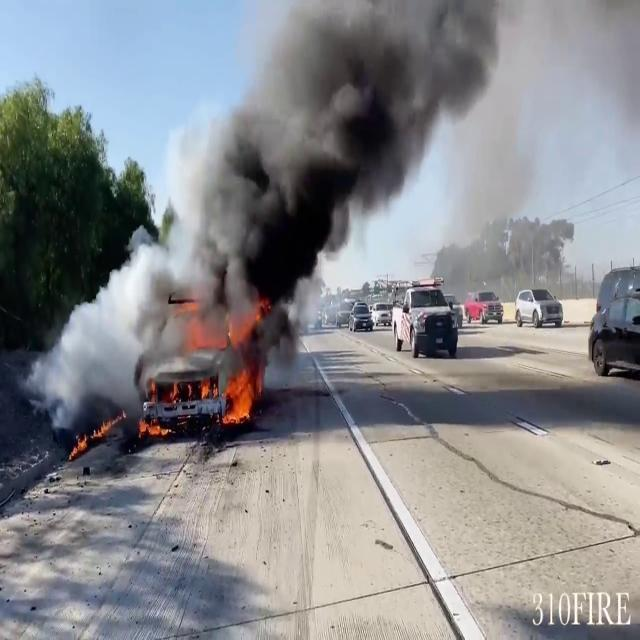Fire: (220, 356, 264, 426)
Smoke: (183, 0, 494, 327), (36, 226, 178, 446)
